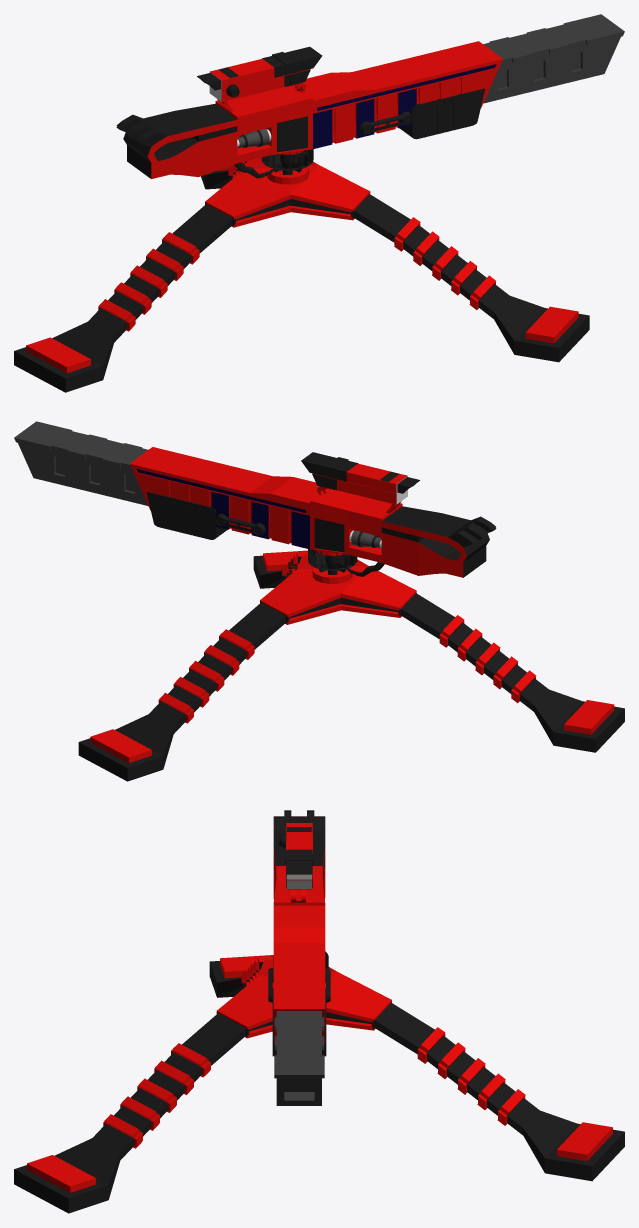
File: Gun red.fbx
3 views of the same model, one above another, from view 1: azimuth 30°, elevation 25°; view 2: azimuth 150°, elevation 25°; view 3: azimuth 270°, elevation 25° (orthographic). The views are drawn at different scales.
Visible parts, largest first — view 1: gun body, stand; view 2: gun body, stand; view 3: stand, gun body.
Part boxes in pixels (x1,y1,x2,y2): gun body: (116, 14, 624, 178); stand: (14, 149, 589, 392); gun body: (14, 421, 496, 577); stand: (78, 549, 624, 781); stand: (14, 951, 624, 1213); gun body: (268, 810, 330, 1105).
Bounding box in the file's own units: 3250 × 1242 × 2700.
